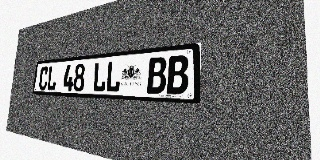4: (62, 64, 75, 91)
8: (73, 63, 86, 91)
B: (166, 55, 189, 94), (147, 57, 167, 94)
C: (38, 66, 49, 90)
L: (105, 60, 122, 92), (92, 62, 107, 92), (46, 66, 57, 91)
